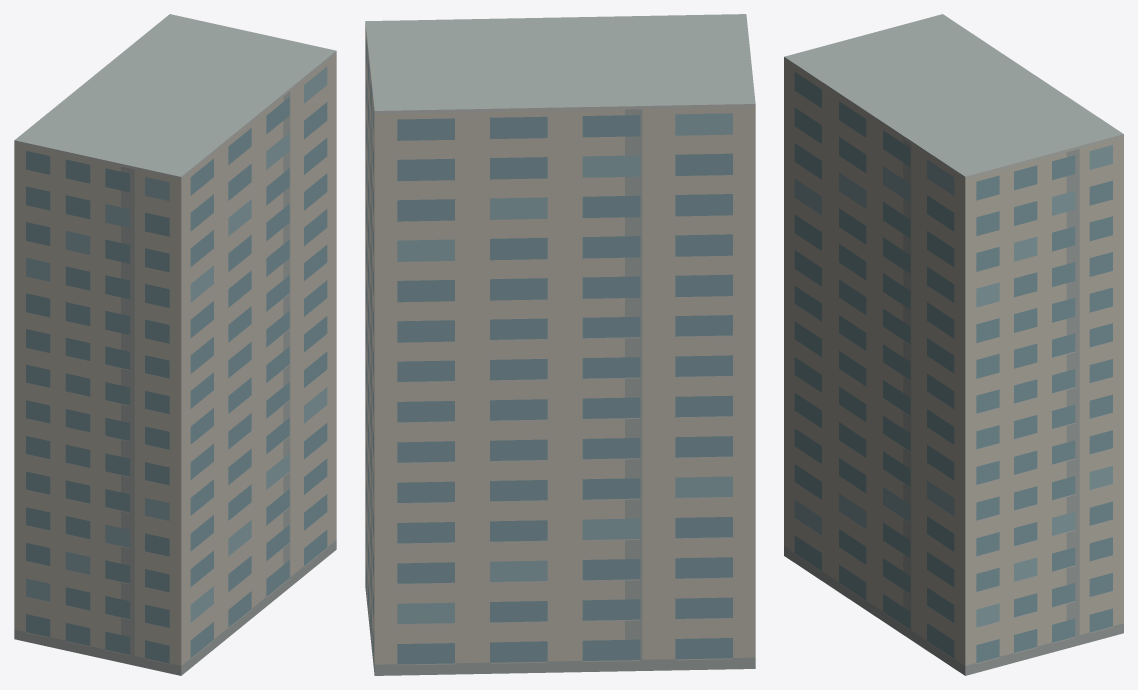
File: residential-7ba4e5ac-7c75-4820-a056-626daa181473.glb
3 views of the same model, side by side, from view 1: azimuth 30°, elevation 25°; view 2: azimuth 150°, elevation 25°; view 3: azimuth 270°, elevation 25° (orthographic). The views are drawn at different scales.
Parts seen in each view (by area): view 1: residential-7ba4e5ac-7c75-4820-a056-626daa181473.tmp; view 2: residential-7ba4e5ac-7c75-4820-a056-626daa181473.tmp; view 3: residential-7ba4e5ac-7c75-4820-a056-626daa181473.tmp.
Part boxes in pixels (x1=…): residential-7ba4e5ac-7c75-4820-a056-626daa181473.tmp: x1=14, y1=14, x2=336, y2=675; residential-7ba4e5ac-7c75-4820-a056-626daa181473.tmp: x1=365, y1=14, x2=755, y2=675; residential-7ba4e5ac-7c75-4820-a056-626daa181473.tmp: x1=784, y1=14, x2=1123, y2=675.
Bounding box in the file's own units: 30.08 × 43 × 26.54.
